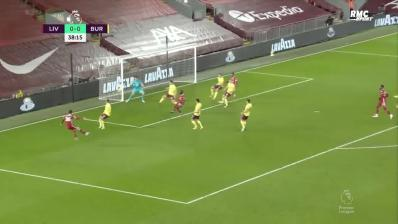football: (116, 88, 126, 96)
player: (370, 82, 396, 122), (58, 109, 90, 141), (158, 79, 181, 107), (124, 76, 146, 104), (237, 98, 254, 134), (218, 80, 238, 108), (190, 98, 206, 132), (97, 98, 113, 131), (208, 72, 225, 101), (170, 88, 187, 116)
